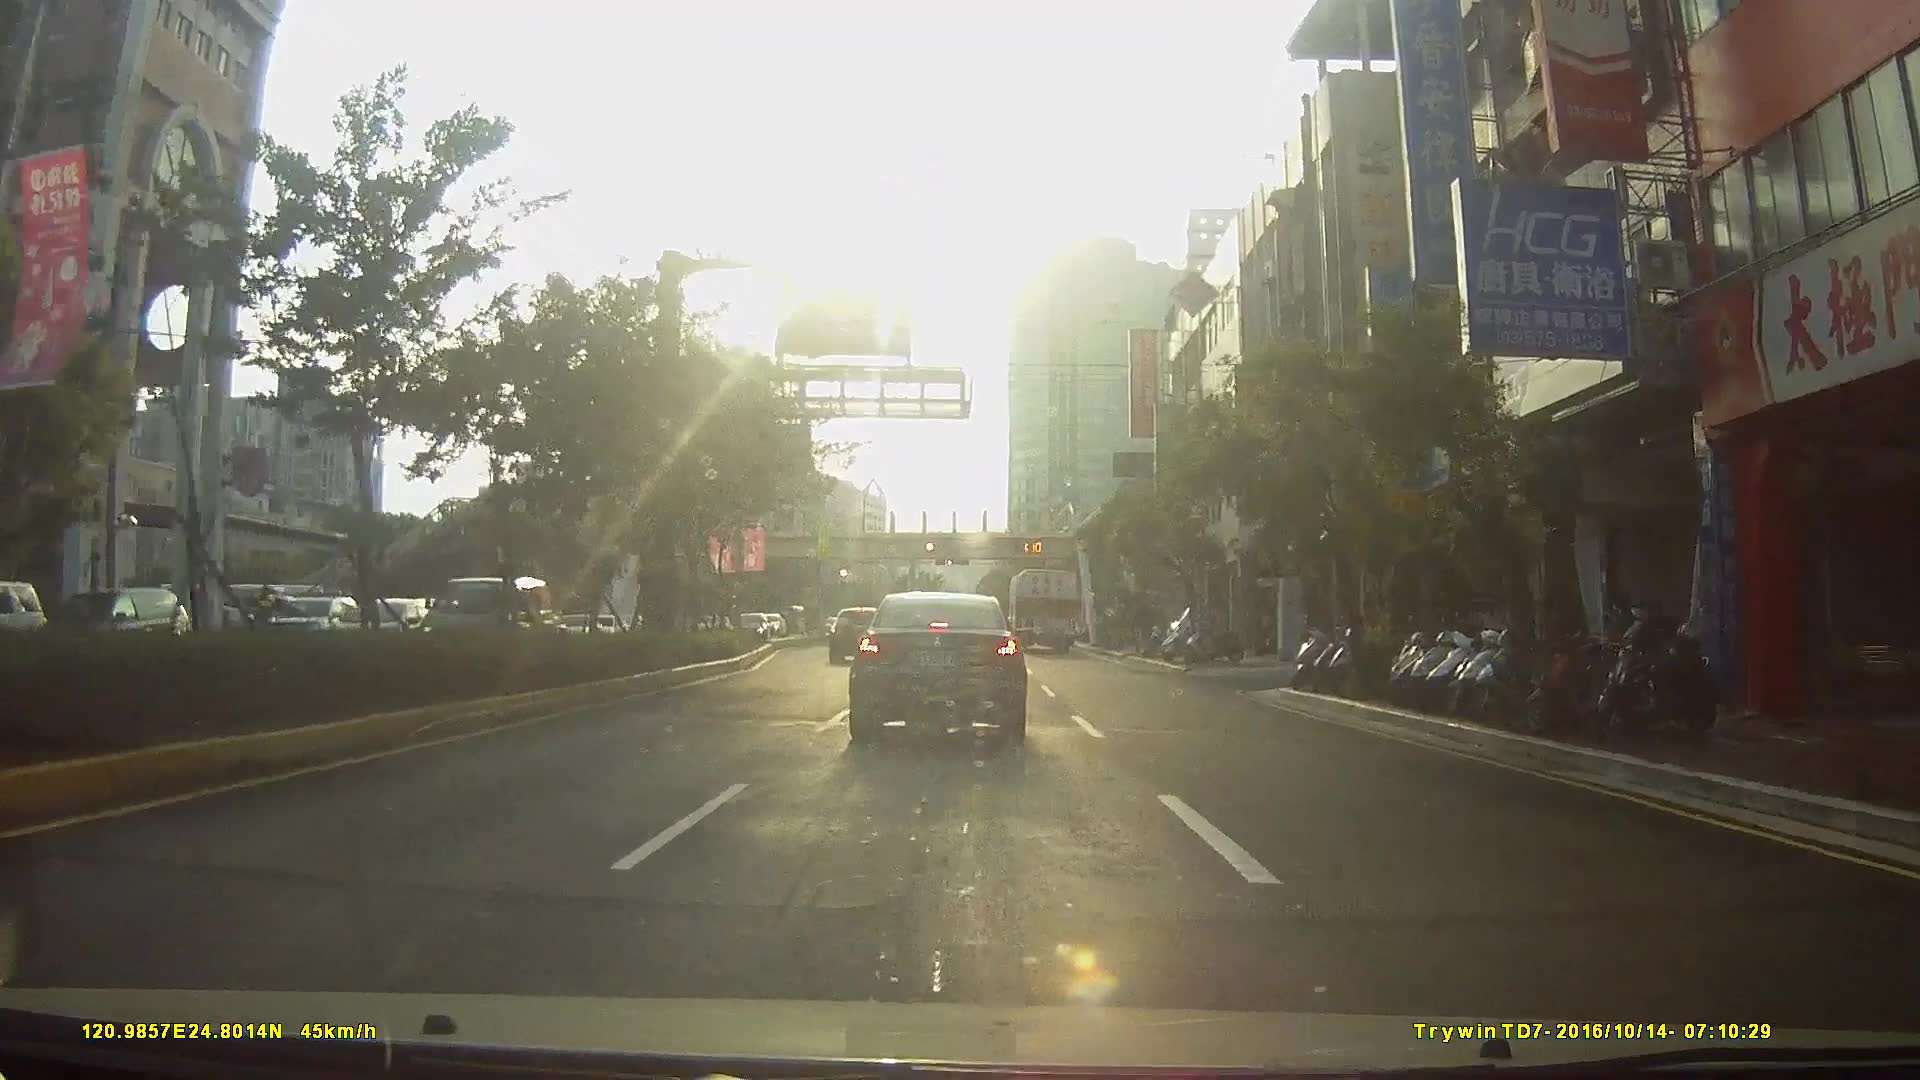vehicle: (847, 593, 1026, 753), (417, 576, 556, 659), (40, 585, 182, 662), (1004, 567, 1080, 655), (825, 604, 887, 665), (727, 612, 767, 646)
